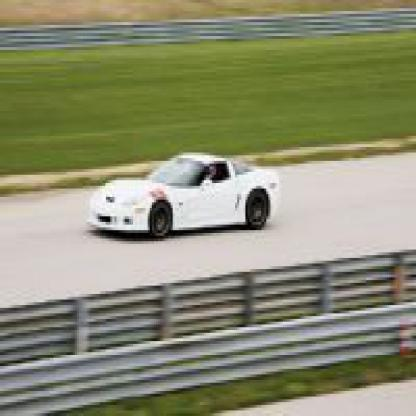Vehicle: (89, 138, 283, 250)
